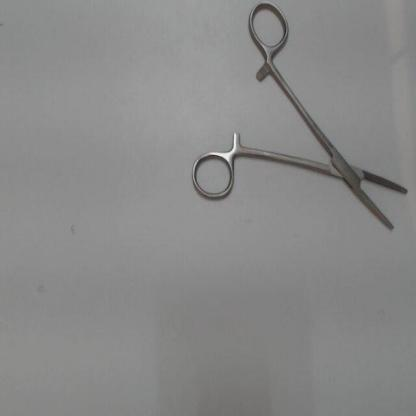Mayo Needle Holder: (187, 0, 414, 245)
